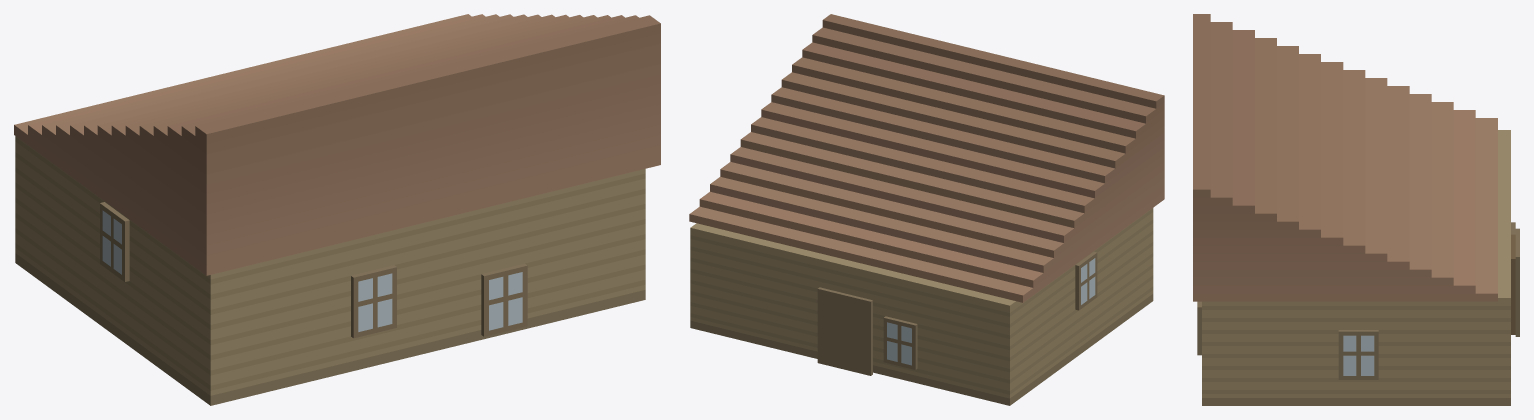
The model's file is taller_asedio_04.glb.
3 views of the same model, side by side, from view 1: azimuth 30°, elevation 25°; view 2: azimuth 150°, elevation 25°; view 3: azimuth 270°, elevation 25° (orthographic). The views are drawn at different scales.
Visible parts, largest first — view 1: taller_asedio_04; view 2: taller_asedio_04; view 3: taller_asedio_04.
Part boxes in pixels (x1,y1,x2,y2): taller_asedio_04: (14, 14, 660, 405); taller_asedio_04: (689, 14, 1164, 405); taller_asedio_04: (1193, 14, 1519, 405).
Bounding box in the file's own units: 9.4 × 5.5 × 7.4.
